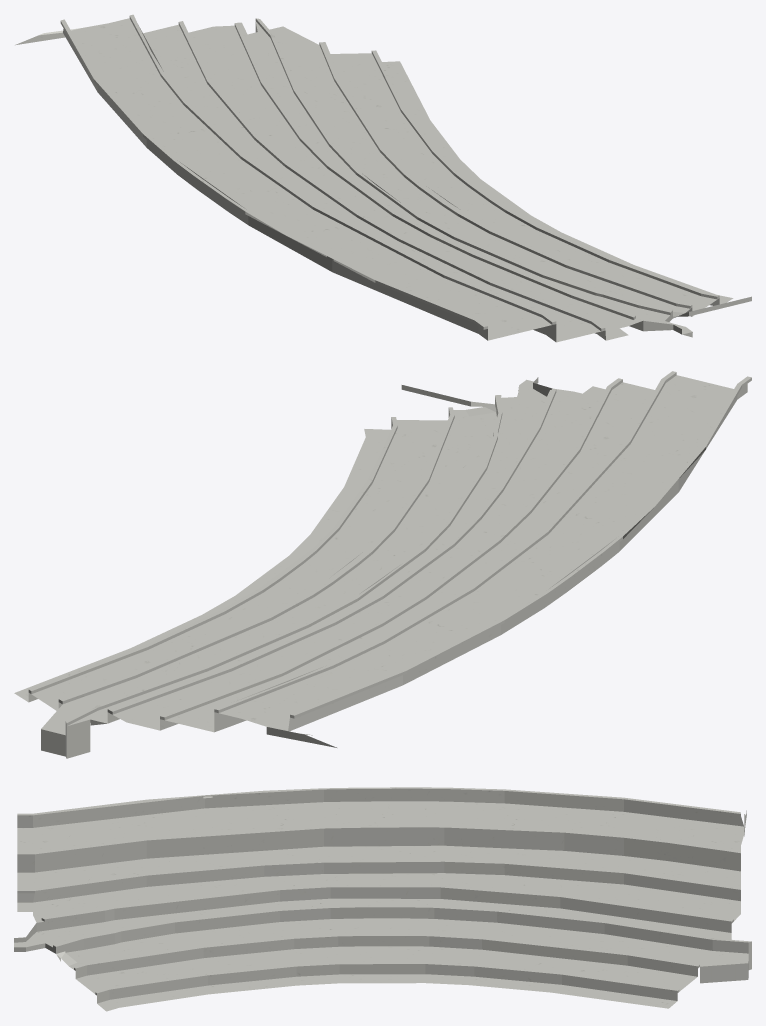
Rendered from audience.fbx.
3 renders of one model, top to bottom at view 1: azimuth 30°, elevation 25°; view 2: azimuth 150°, elevation 25°; view 3: azimuth 270°, elevation 25°, orthographic. The views are drawn at different scales.
Parts seen in each view (by area): view 1: concrete; view 2: concrete; view 3: concrete.
Boxes of the visible parts, box(x1,y1,x2,y2) form: concrete: box(15, 14, 751, 342); concrete: box(14, 371, 751, 758); concrete: box(14, 787, 751, 1011).
Size of the model in its own units: 1408 by 310 by 2867.
